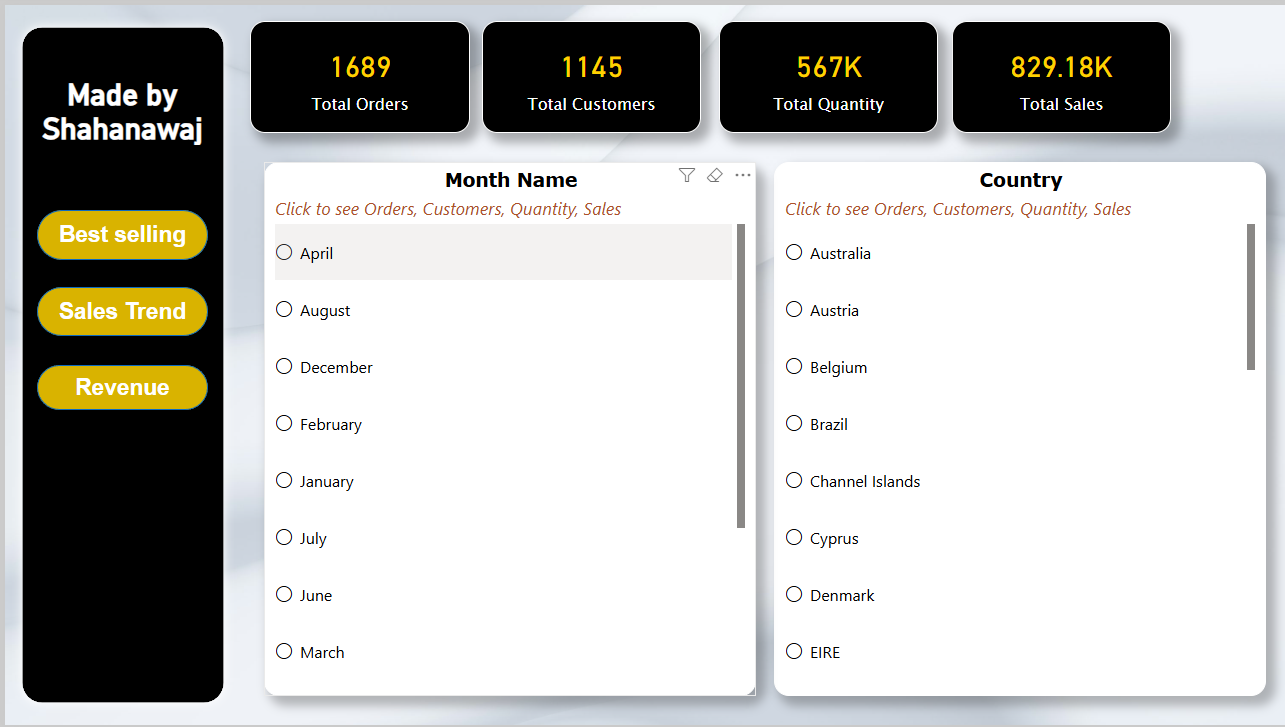

Layout of this report page (visuals, bound fields, positions):
{"tool":"powerbi","page":{"name":"Page 1","canvas":[1280,720],"ordinal":0},"visuals":[{"type":"card","fields":{"Values":["FIData.Total Sales"]},"box":[947.3,16.4,219.1,111.8],"z":0},{"type":"shape","box":[7.3,11.8,221.8,696.4],"z":1000},{"type":"card","fields":{"Values":["FIData.Total Quantity"]},"box":[713.6,16.4,219.1,111.8],"z":2000},{"type":"card","fields":{"Values":["FIData.Total Orders"]},"box":[245.5,16.4,219.1,111.8],"z":3000},{"type":"card","fields":{"Values":["FIData.Total Customers"]},"box":[477.3,16.4,219.1,111.8],"z":4000},{"type":"shape","box":[32,205,171,50],"z":5000},{"type":"shape","box":[32,282,171,49],"z":6000},{"type":"shape","box":[32,360,171,45],"z":7000},{"type":"textbox","title":"Made by Shahanawaj","box":[26,72,183,72],"z":8000},{"type":"listSlicer","fields":{"Values":["FIData.Country"]},"box":[769,157,492,534],"z":9000},{"type":"listSlicer","fields":{"Values":["FIData.Month Name"]},"box":[259,157,492,534],"z":10000}]}

Visuals, with their boxes in screenshot pixels (x1, y1, x2, y2), scaled from the page's 1280x720 canvas onto the 1285x727 screenshot:
card - FIData.Total Sales: 951,17,1171,129
shape: 7,12,230,715
card - FIData.Total Quantity: 716,17,936,129
card - FIData.Total Orders: 246,17,466,129
card - FIData.Total Customers: 479,17,699,129
shape: 32,207,204,257
shape: 32,285,204,334
shape: 32,364,204,409
"Made by Shahanawaj" textbox: 26,73,210,145
listSlicer - FIData.Country: 772,159,1266,698
listSlicer - FIData.Month Name: 260,159,754,698
